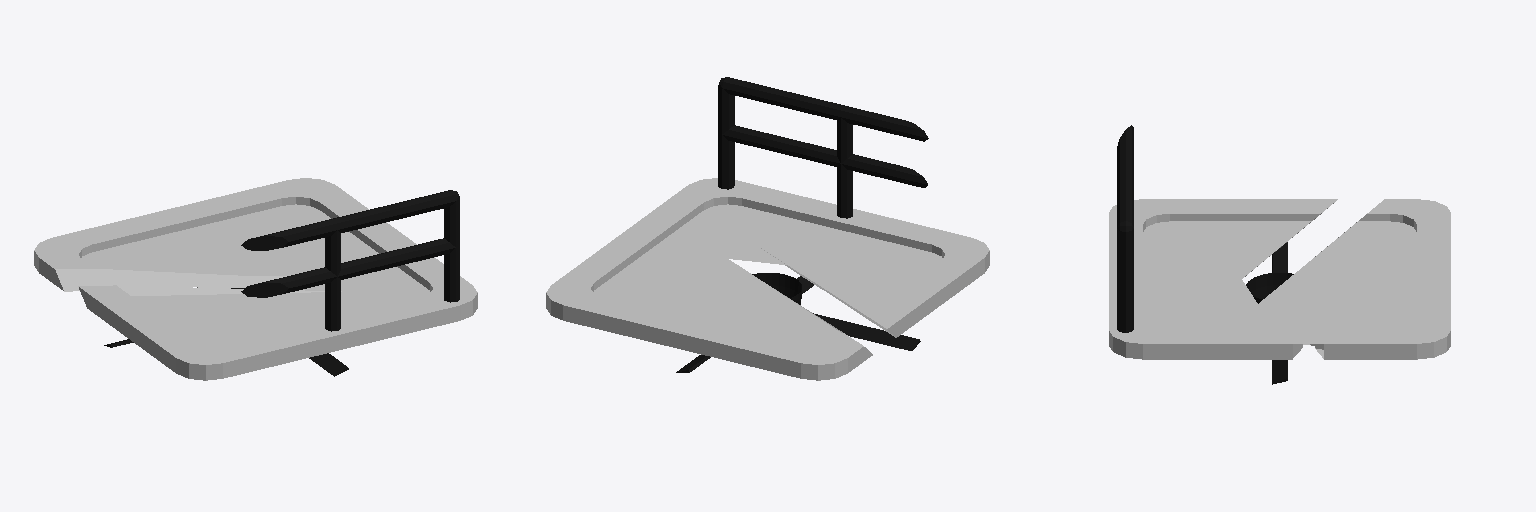
The model's file is Falling2Model.obj.
3 renders of one model, left to right at view 1: azimuth 30°, elevation 25°; view 2: azimuth 150°, elevation 25°; view 3: azimuth 270°, elevation 25°, orthographic.
Visible parts, largest first — view 1: Cube.001, Cylinder, prop; view 2: Cube.001, Cylinder, prop; view 3: Cube.001, Cylinder, prop.
Part boxes in pixels (bbox=[...]): Cube.001: bbox=[34, 178, 477, 380]; Cylinder: bbox=[241, 190, 459, 331]; prop: bbox=[104, 288, 348, 376]; Cube.001: bbox=[546, 178, 989, 380]; Cylinder: bbox=[718, 77, 928, 218]; prop: bbox=[676, 273, 920, 372]; Cube.001: bbox=[1109, 199, 1450, 359]; Cylinder: bbox=[1117, 125, 1133, 332]; prop: bbox=[1246, 242, 1293, 384].
Size of the model in its own units: 2 by 1.2 by 2.